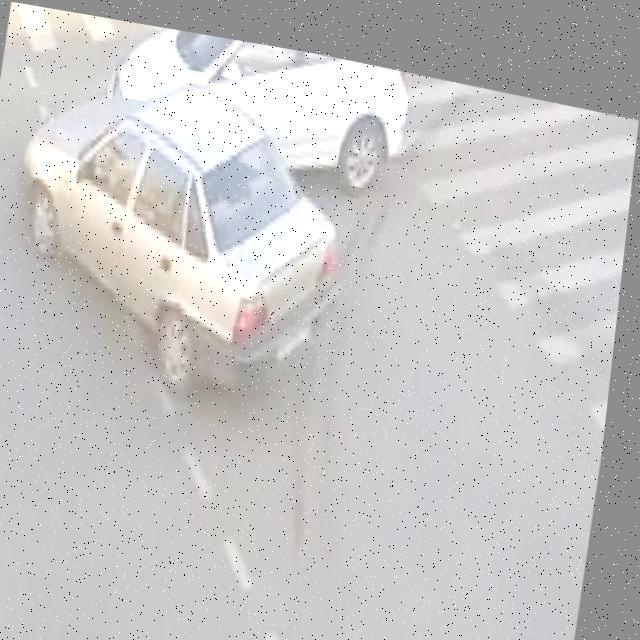Car Accident Detector - v4 Generation1 Exported: (0, 2, 427, 416)
